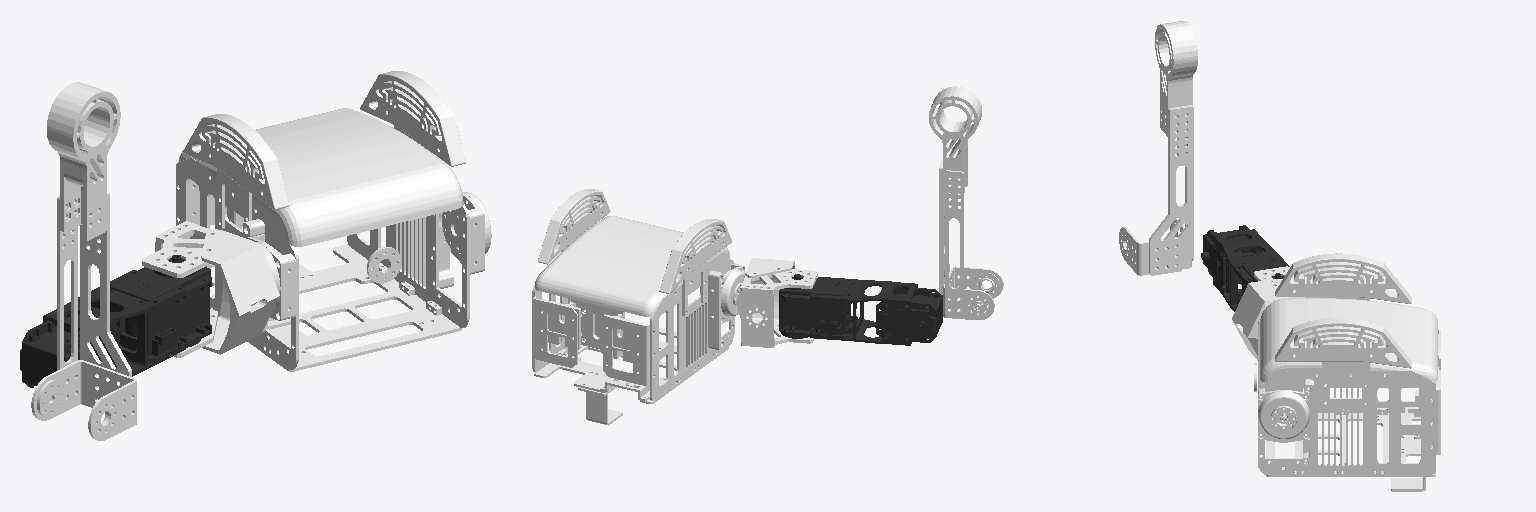
URDF robot description (left_arm):
<?xml version="1.0" encoding="utf-8"?>
<!-- This URDF was automatically created by SolidWorks to URDF Exporter! Originally created by [author] ([email redacted]) 
     Commit Version: 1.6.0-4-g7f85cfe  Build Version: 1.6.7995.38578
     For more information, please see http://wiki.ros.org/sw_urdf_exporter -->
<robot
  name="left_arm">
  <link
    name="chest">
    <inertial>
      <origin
        xyz="-0.0001211613481327 0.00327457412975664 -0.0250578458337959"
        rpy="0 0 0" />
      <mass
        value="0.531912778600973" />
      <inertia
        ixx="0.000383892000224428"
        ixy="1.21321138119047E-09"
        ixz="3.01696273983852E-07"
        iyy="0.000444133944054918"
        iyz="-2.70915050863183E-06"
        izz="0.000294281860299723" />
    </inertial>
    <visual>
      <origin
        xyz="0 0 0"
        rpy="0 0 0" />
      <geometry>
        <mesh
          filename="package://left_arm/meshes/chest.STL" />
      </geometry>
      <material
        name="">
        <color
          rgba="1 1 1 1" />
      </material>
    </visual>
    <collision>
      <origin
        xyz="0 0 0"
        rpy="0 0 0" />
      <geometry>
        <mesh
          filename="package://left_arm/meshes/chest.STL" />
      </geometry>
    </collision>
  </link>
  <link
    name="left_shoulder">
    <inertial>
      <origin
        xyz="3.4807E-09 -0.0017709 -0.00095189"
        rpy="0 0 0" />
      <mass
        value="0.044031" />
      <inertia
        ixx="1.2764E-05"
        ixy="1.8647E-11"
        ixz="-1.5388E-11"
        iyy="1.693E-05"
        iyz="5.5264E-07"
        izz="1.0975E-05" />
    </inertial>
    <visual>
      <origin
        xyz="0 0 0"
        rpy="0 0 0" />
      <geometry>
        <mesh
          filename="package://left_arm/meshes/left_shoulder.STL" />
      </geometry>
      <material
        name="">
        <color
          rgba="1 1 1 1" />
      </material>
    </visual>
    <collision>
      <origin
        xyz="0 0 0"
        rpy="0 0 0" />
      <geometry>
        <mesh
          filename="package://left_arm/meshes/left_shoulder.STL" />
      </geometry>
    </collision>
  </link>
  <joint
    name="left_arm_upper"
    type="fixed">
    <origin
      xyz="-0.103502634219692 0.00416746931816645 0.0134"
      rpy="2.18152229118412 1.5707963267949 0" />
    <parent
      link="chest" />
    <child
      link="left_shoulder" />
    <axis
      xyz="0 0 0" />
  </joint>
  <link
    name="left_arm">
    <inertial>
      <origin
        xyz="2.8453E-05 -0.029285 0.00020037"
        rpy="0 0 0" />
      <mass
        value="0.14644" />
      <inertia
        ixx="5.852E-05"
        ixy="1.1014E-07"
        ixz="6.2608E-11"
        iyy="3.6597E-05"
        iyz="-2.025E-07"
        izz="5.2957E-05" />
    </inertial>
    <visual>
      <origin
        xyz="0 0 0"
        rpy="0 0 0" />
      <geometry>
        <mesh
          filename="package://left_arm/meshes/left_arm.STL" />
      </geometry>
      <material
        name="">
        <color
          rgba="0.25098 0.25098 0.25098 1" />
      </material>
    </visual>
    <collision>
      <origin
        xyz="0 0 0"
        rpy="0 0 0" />
      <geometry>
        <mesh
          filename="package://left_arm/meshes/left_arm.STL" />
      </geometry>
    </collision>
  </link>
  <joint
    name="left_arm_middle"
    type="fixed">
    <origin
      xyz="0 -0.0241430970576075 0.0348343038500071"
      rpy="-1.57079632679489 -0.610725964389222 1.5707963267949" />
    <parent
      link="left_shoulder" />
    <child
      link="left_arm" />
    <axis
      xyz="0 0 0" />
  </joint>
  <link
    name="left_hand">
    <inertial>
      <origin
        xyz="0.051671 0.015457 -0.0014073"
        rpy="0 0 0" />
      <mass
        value="0.06427" />
      <inertia
        ixx="1.2951E-05"
        ixy="-2.5065E-06"
        ixz="3.8138E-07"
        iyy="5.8741E-05"
        iyz="-1.7885E-12"
        izz="6.1018E-05" />
    </inertial>
    <visual>
      <origin
        xyz="0 0 0"
        rpy="0 0 0" />
      <geometry>
        <mesh
          filename="package://left_arm/meshes/left_hand.STL" />
      </geometry>
      <material
        name="">
        <color
          rgba="1 1 1 1" />
      </material>
    </visual>
    <collision>
      <origin
        xyz="0 0 0"
        rpy="0 0 0" />
      <geometry>
        <mesh
          filename="package://left_arm/meshes/left_hand.STL" />
      </geometry>
    </collision>
  </link>
  <joint
    name="left_arm_lower"
    type="fixed">
    <origin
      xyz="0.0247500000000004 -0.11005 0.122"
      rpy="1.5707963267949 1.5707963267949 0" />
    <parent
      link="left_arm" />
    <child
      link="left_hand" />
    <axis
      xyz="0 0 0" />
  </joint>
</robot>

--- Facts derived from the render (not from the file) ---
Views: 3 orthographic renders of the robot side by side, from view 1: azimuth 30°, elevation 25°; view 2: azimuth 150°, elevation 25°; view 3: azimuth 270°, elevation 25°.
Model left_arm with 4 links and 3 joints (3 fixed), rooted at chest, posed every joint at zero.
Visible links, largest first — view 1: chest, left_hand, left_arm, left_shoulder; view 2: chest, left_arm, left_hand, left_shoulder; view 3: chest, left_hand, left_arm, left_shoulder.
Link boxes in pixels (left/top/right/bottom): chest: left=176, top=71, right=491, bottom=371; left_hand: left=31, top=82, right=136, bottom=440; left_arm: left=20, top=255, right=211, bottom=387; left_shoulder: left=142, top=221, right=279, bottom=357; chest: left=532, top=189, right=744, bottom=425; left_arm: left=779, top=274, right=942, bottom=345; left_hand: left=929, top=86, right=1003, bottom=319; left_shoulder: left=736, top=258, right=817, bottom=347; chest: left=1254, top=253, right=1440, bottom=491; left_hand: left=1119, top=21, right=1197, bottom=275; left_arm: left=1201, top=225, right=1289, bottom=311; left_shoulder: left=1232, top=266, right=1321, bottom=360.
Size in the robot's own frame: 0.347 by 0.2468 by 0.2817 metres.
4 mesh visuals loaded from 4 distinct referenced files (4 binary STL).